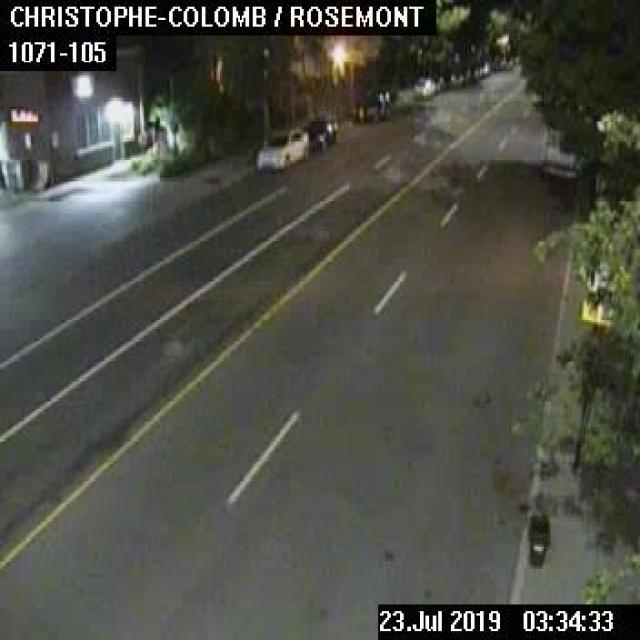vehicle: (537, 125, 577, 181), (255, 128, 308, 169), (353, 84, 389, 118), (304, 116, 336, 149), (411, 76, 433, 96), (432, 75, 444, 90)
